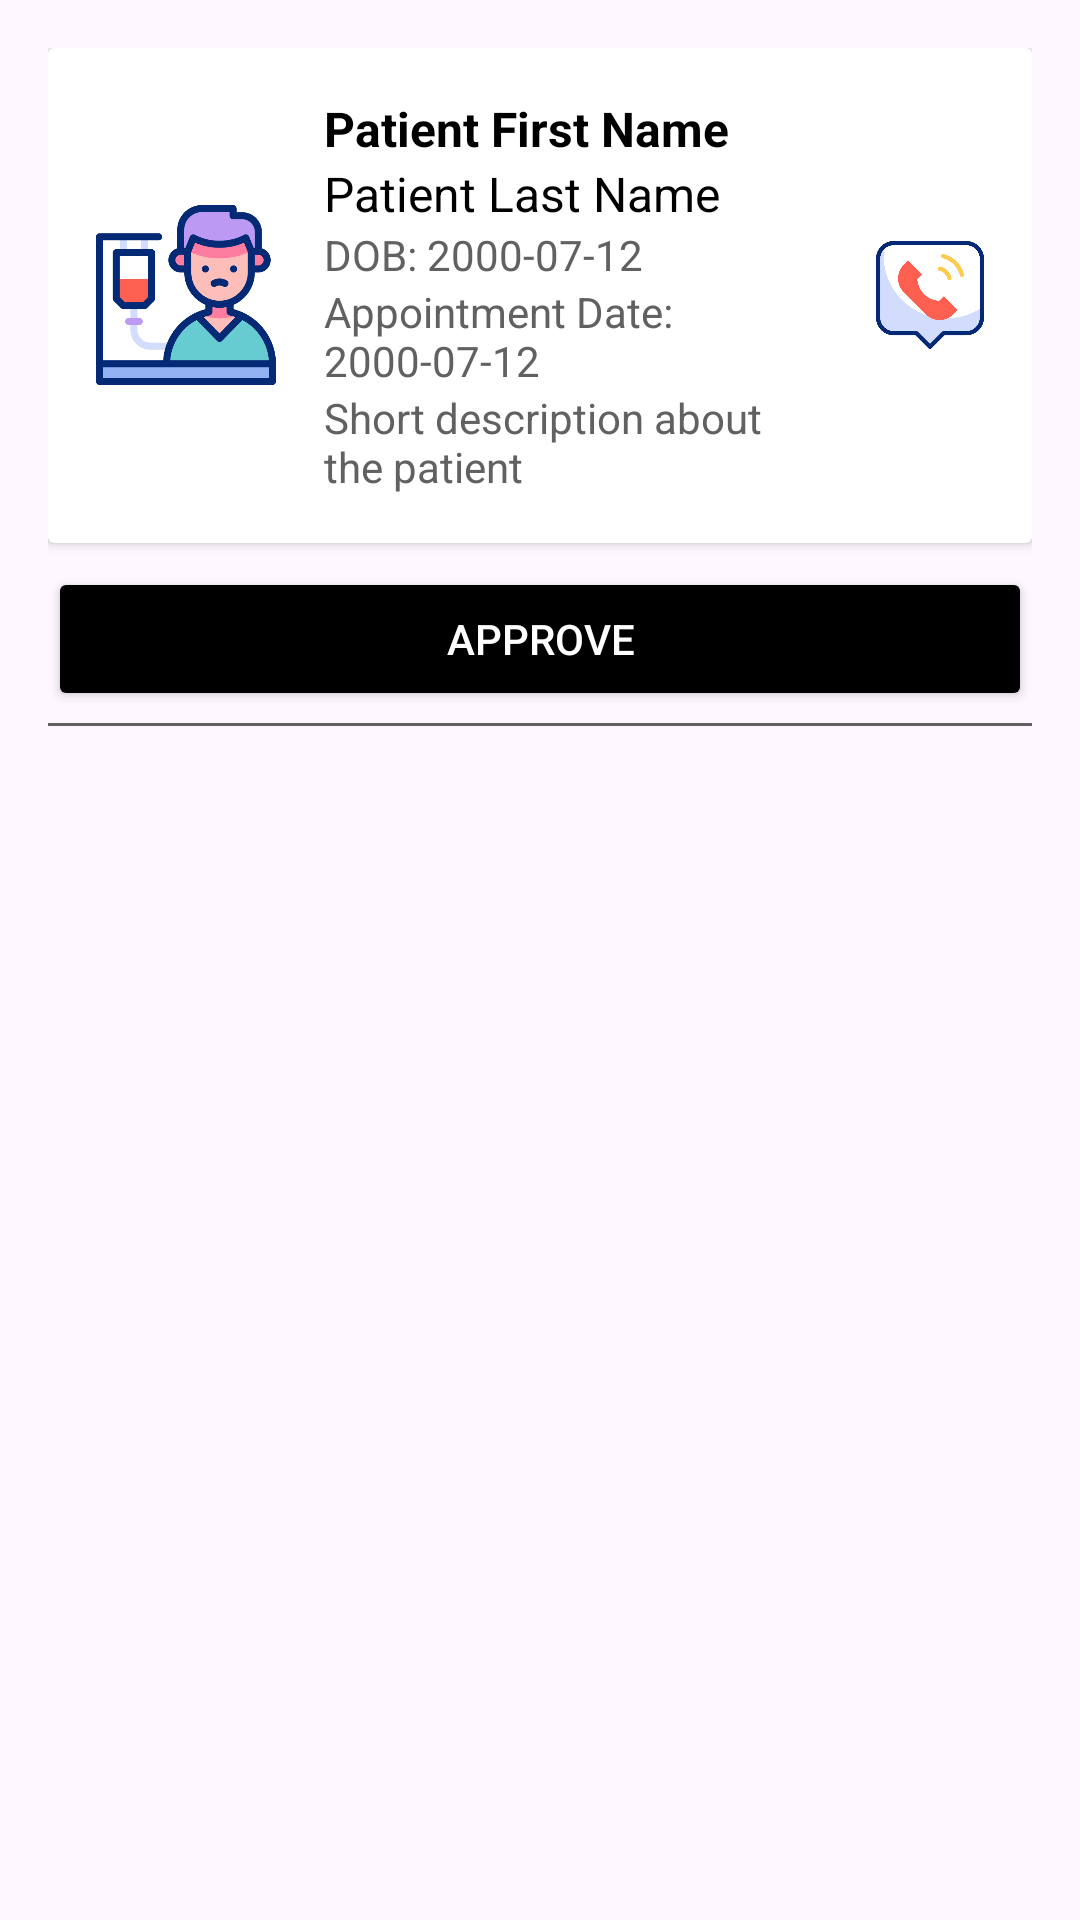

Named icons in this screenshot (1080×1920) and their centers, [x,y]:
Call Button: [930,295]
